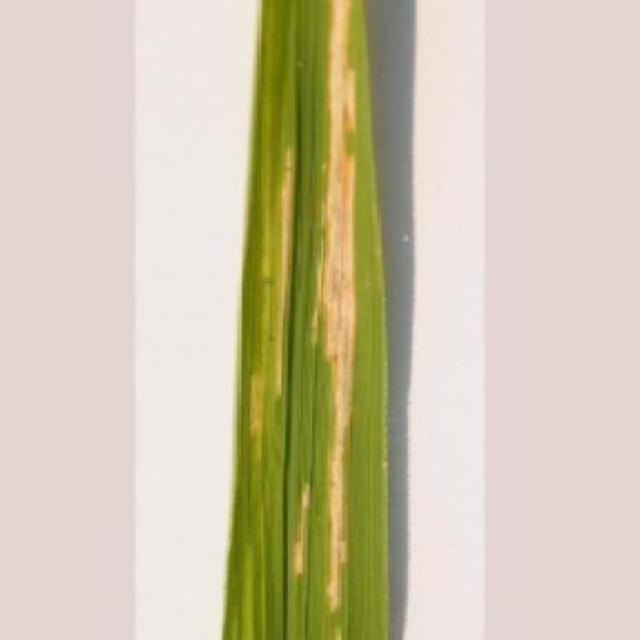Brown_Spot: (218, 0, 396, 640)
